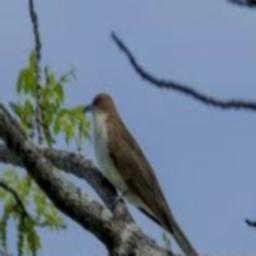Cuckoo: (82, 93, 200, 256)
